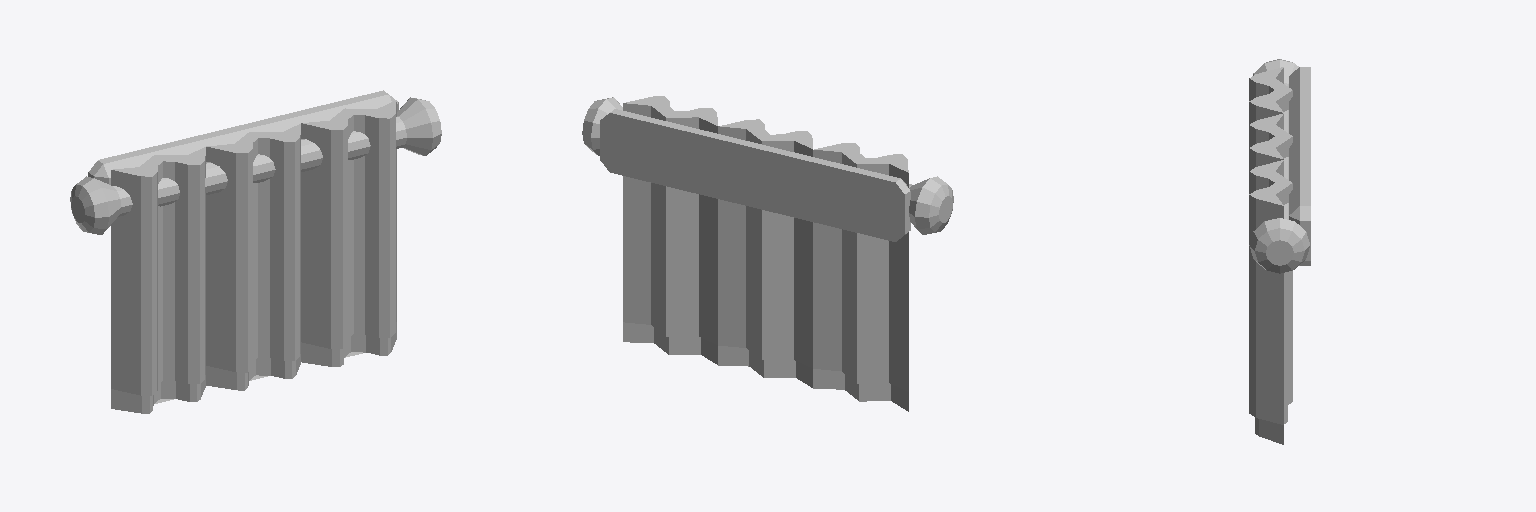
File: curtains.obj
The picture shows the model from 3 angles: view 1: azimuth 30°, elevation 25°; view 2: azimuth 150°, elevation 25°; view 3: azimuth 270°, elevation 25°; orthographic projection.
Visible parts, largest first — view 1: curtains; view 2: curtains; view 3: curtains.
Part boxes in pixels (x1,y1,x2,y2): curtains: (70,90,441,413); curtains: (582,96,953,411); curtains: (1249,59,1310,444).
Bounding box in the file's own units: 1.87 × 1.2 × 0.2787.